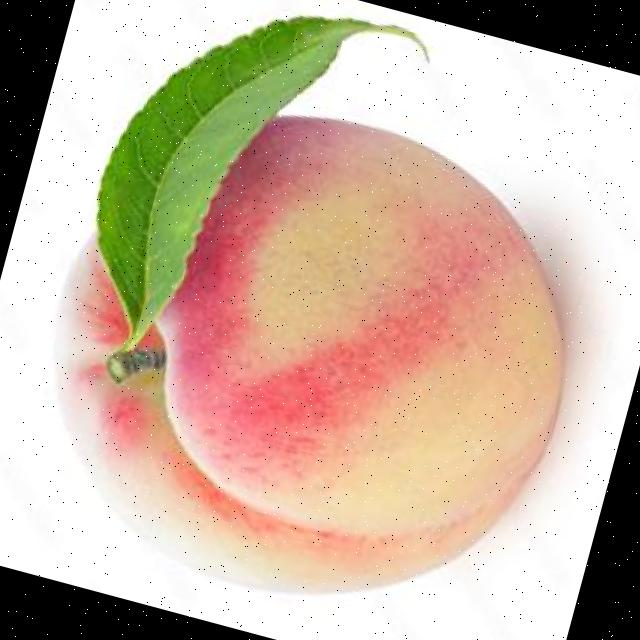peach: (58, 18, 561, 591), (159, 116, 560, 532)
